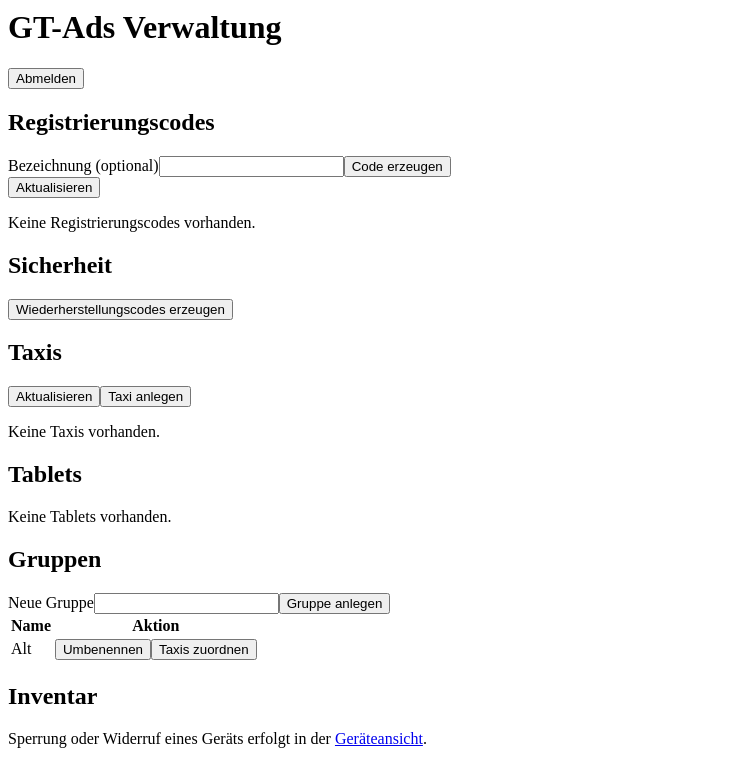
it: CX-136 Gruppenname im Dashboard aendern › behaelt bei Revisionskonflikt die Eingabe und schreibt nicht erneut
Later steps or results of the test are not shown.
Expected: the text "Alt" is shown, [10, 638, 52, 661]
Click the button "Umbenennen": point(103, 649) [55, 639, 151, 660]
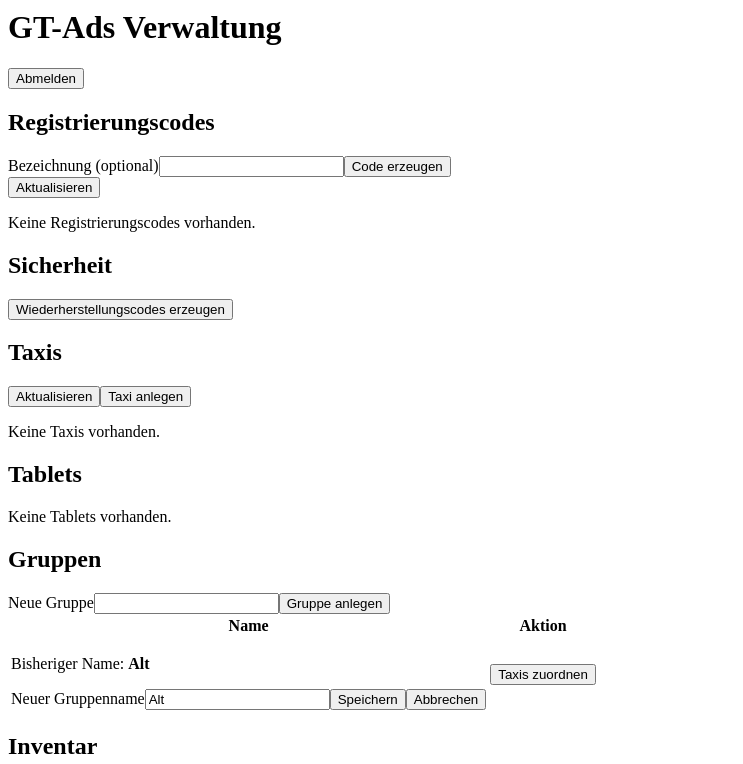
Replace the text in the field labelled "Neuer Gruppenname" with "Neu": point(237, 699) [145, 689, 330, 710]
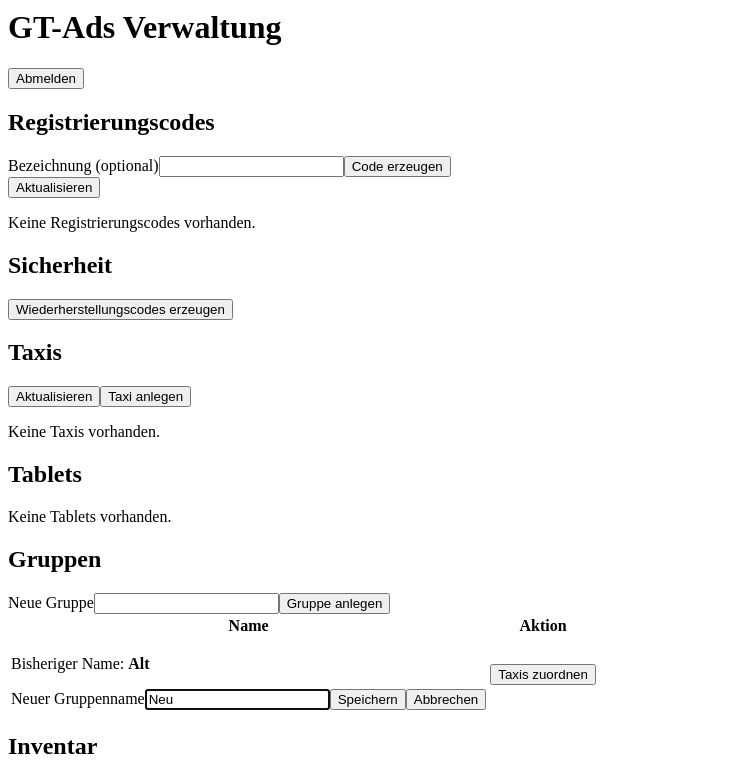
Click the button "Speichern": point(368, 699) [330, 689, 406, 710]
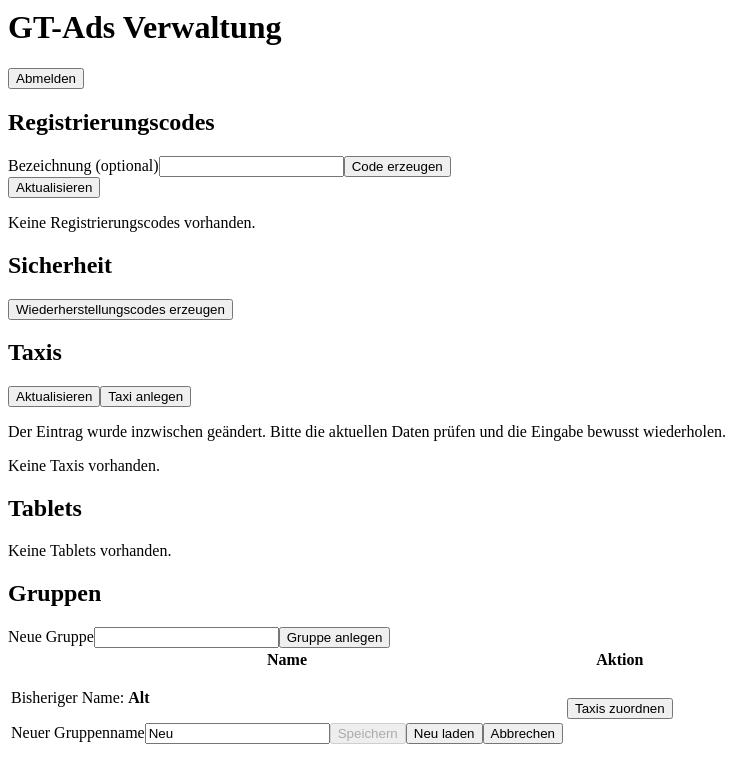
Expected: the text "Alt" is shown, [128, 689, 150, 706]
Now the message shows "inzwischen geändert", box [8, 423, 726, 440]
Now the button "Speichern" is disabled, box [330, 723, 406, 744]
